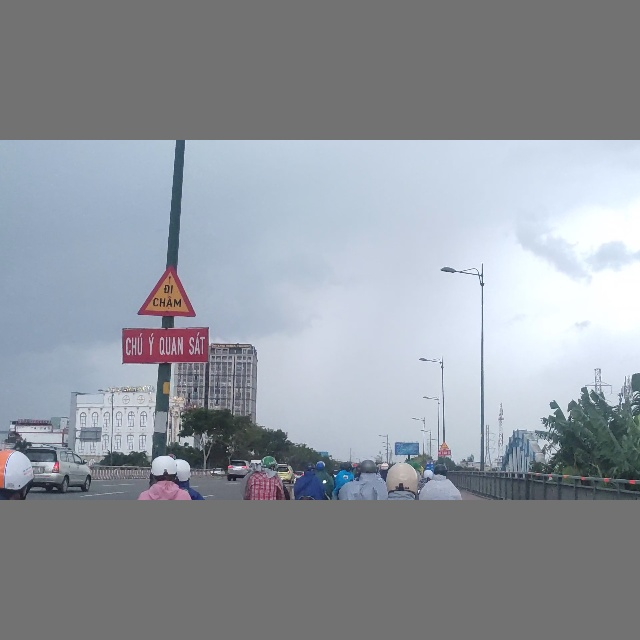W.245a: (137, 264, 196, 317)
